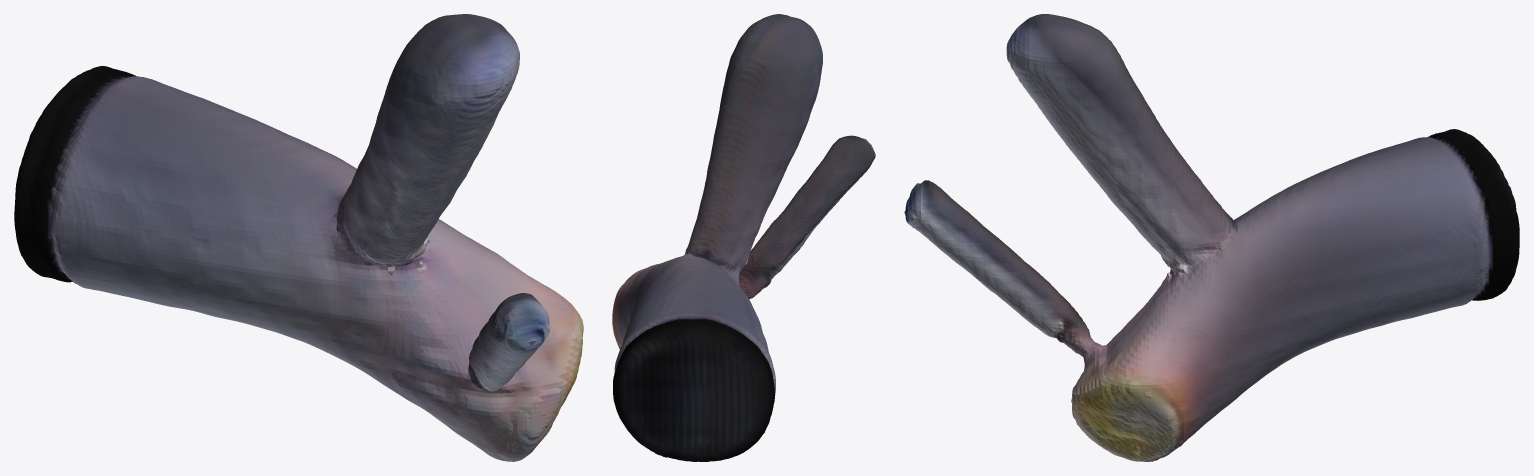
3 renders of one model, left to right at view 1: azimuth 30°, elevation 25°; view 2: azimuth 150°, elevation 25°; view 3: azimuth 270°, elevation 25°, orthographic. The views are drawn at different scales.
Size of the model in its own units: 0.6414 by 0.7863 by 1.09.
